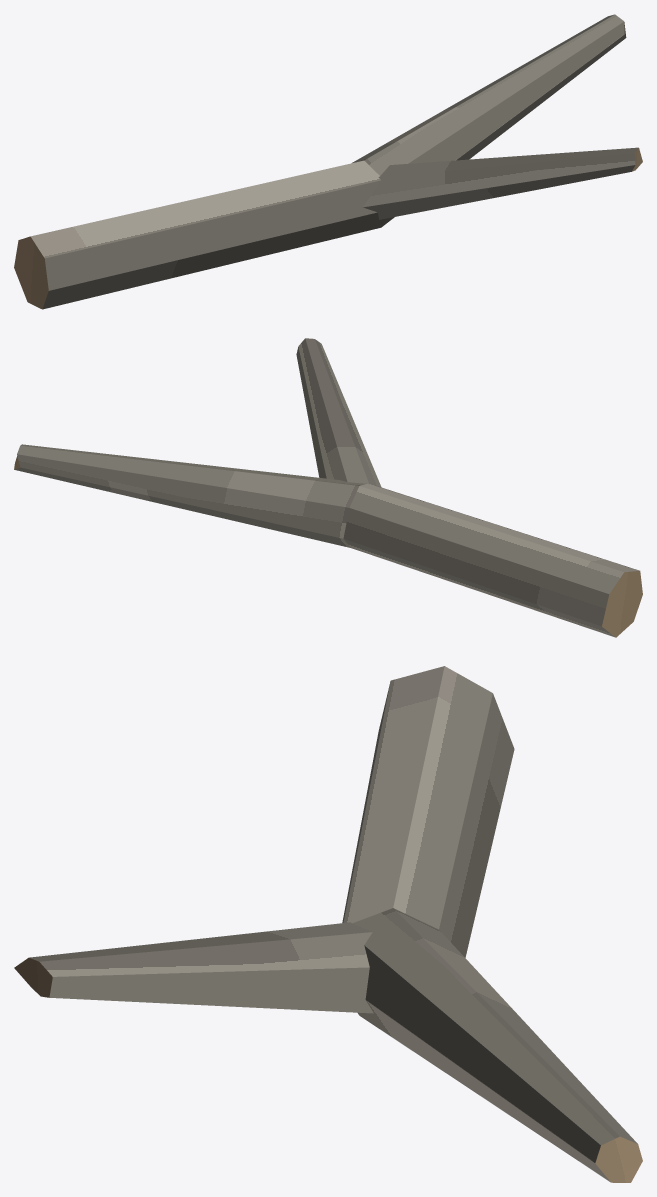
File: scatter-branch.glb
3 renders of one model, top to bottom at view 1: azimuth 30°, elevation 25°; view 2: azimuth 150°, elevation 25°; view 3: azimuth 270°, elevation 25°, orthographic. The views are drawn at different scales.
Parts seen in each view (by area): view 1: scatter-branch; view 2: scatter-branch; view 3: scatter-branch.
Part boxes in pixels (x1,y1,x2,y2): scatter-branch: (14, 14, 642, 309); scatter-branch: (14, 338, 642, 637); scatter-branch: (14, 666, 642, 1182).
Size of the model in its own units: 1.24 by 0.238 by 0.6252.
Materials: 2 (2 with a texture image).
